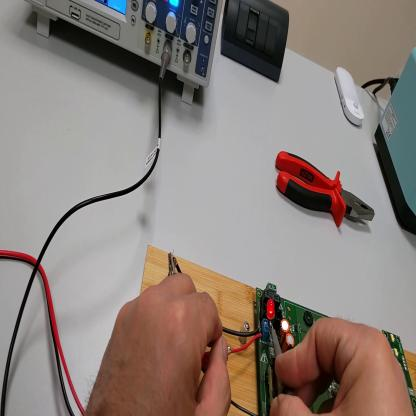hand: (85, 269, 231, 416), (273, 317, 413, 416)
low voltage board: (171, 255, 416, 415)
oscilloscope: (29, 2, 225, 108)
oscilloscope probe tip: (272, 327, 298, 397)
pliers: (275, 152, 377, 231)
welder station: (375, 47, 416, 235)
working area: (142, 244, 415, 415)
